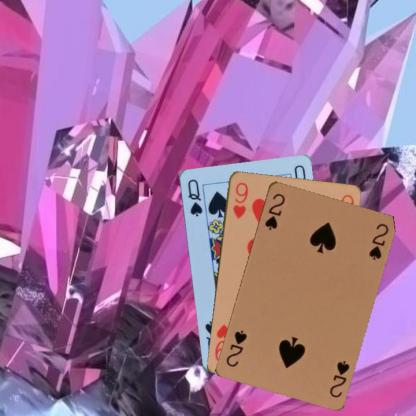2s: (261, 190, 286, 231), (326, 358, 351, 398)
9h: (230, 179, 250, 220)
Qs: (185, 176, 203, 218)
